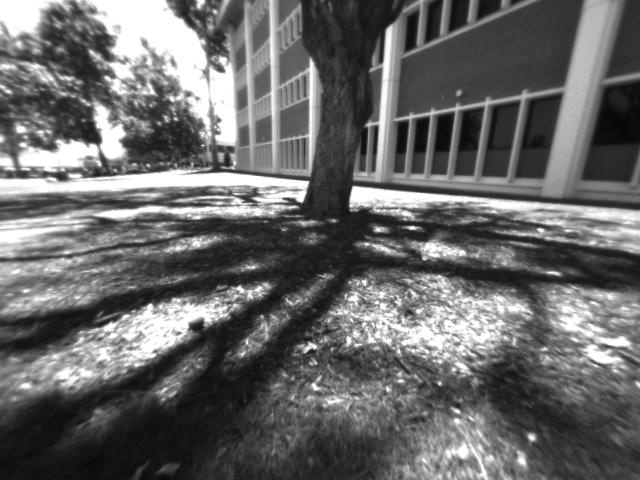dogtoy: (183, 309, 211, 336)
